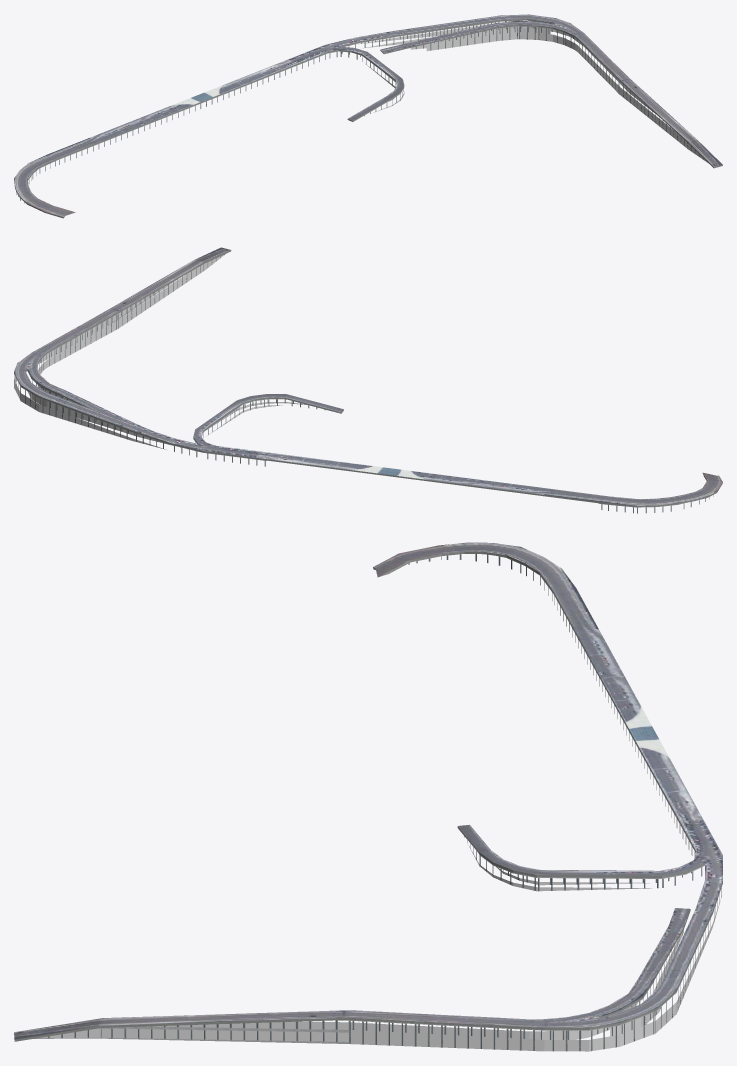
File: Terminal_D_Overpass.fbx
3 views of the same model, one above another, from view 1: azimuth 30°, elevation 25°; view 2: azimuth 150°, elevation 25°; view 3: azimuth 270°, elevation 25° (orthographic). The views are drawn at different scales.
Parts seen in each view (by area): view 1: Model; view 2: Model; view 3: Model.
Boxes of the visible parts, x1=… form: Model: x1=14, y1=14, x2=722, y2=218; Model: x1=14, y1=247, x2=722, y2=513; Model: x1=14, y1=542, x2=722, y2=1051.
Size of the model in its own units: 876 by 23.05 by 535.
Materials: 4 (4 with a texture image).
